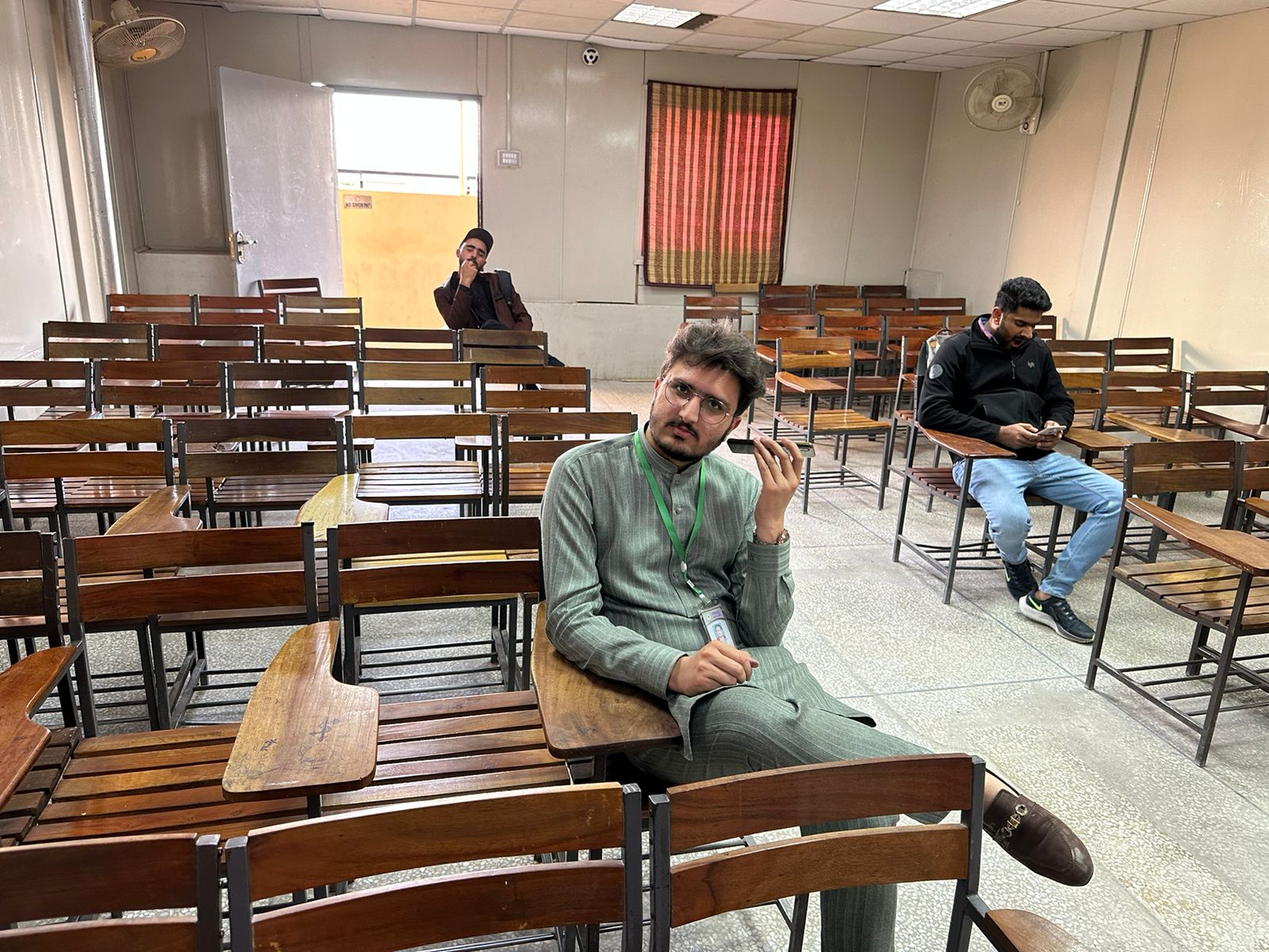non-cheating: (456, 227, 494, 271)
phone: (726, 434, 817, 472), (1000, 420, 1067, 451)
